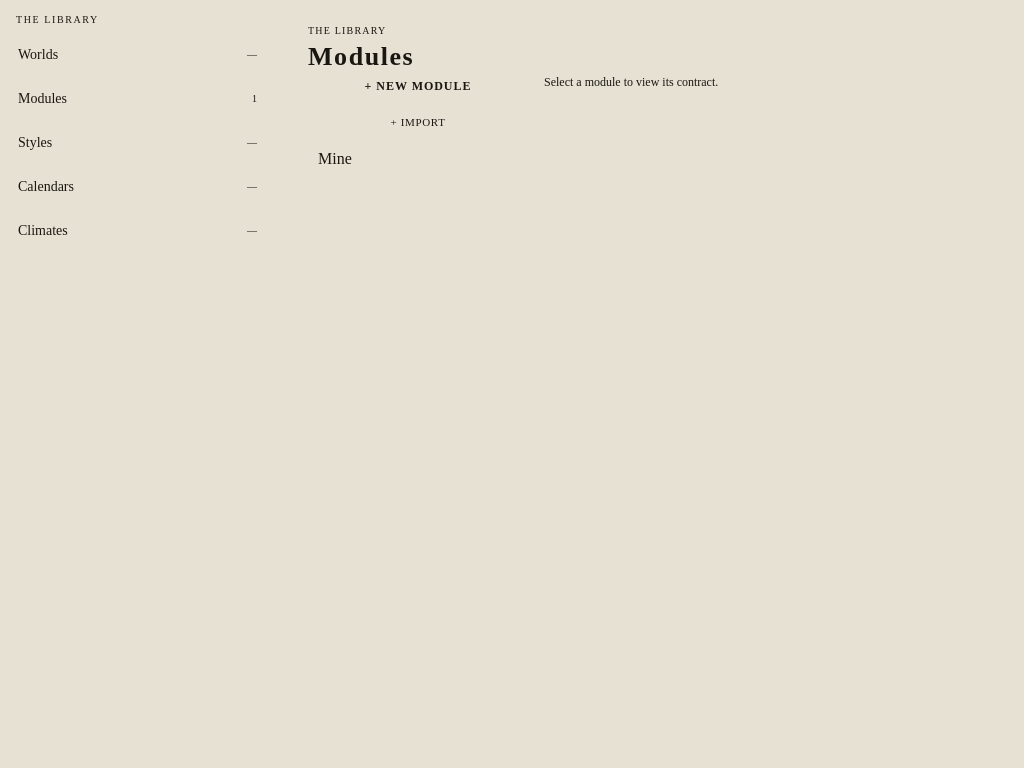
Test: Edit mounts the module editor
Click the link "Mine" at (335,159), box [318, 150, 352, 167]
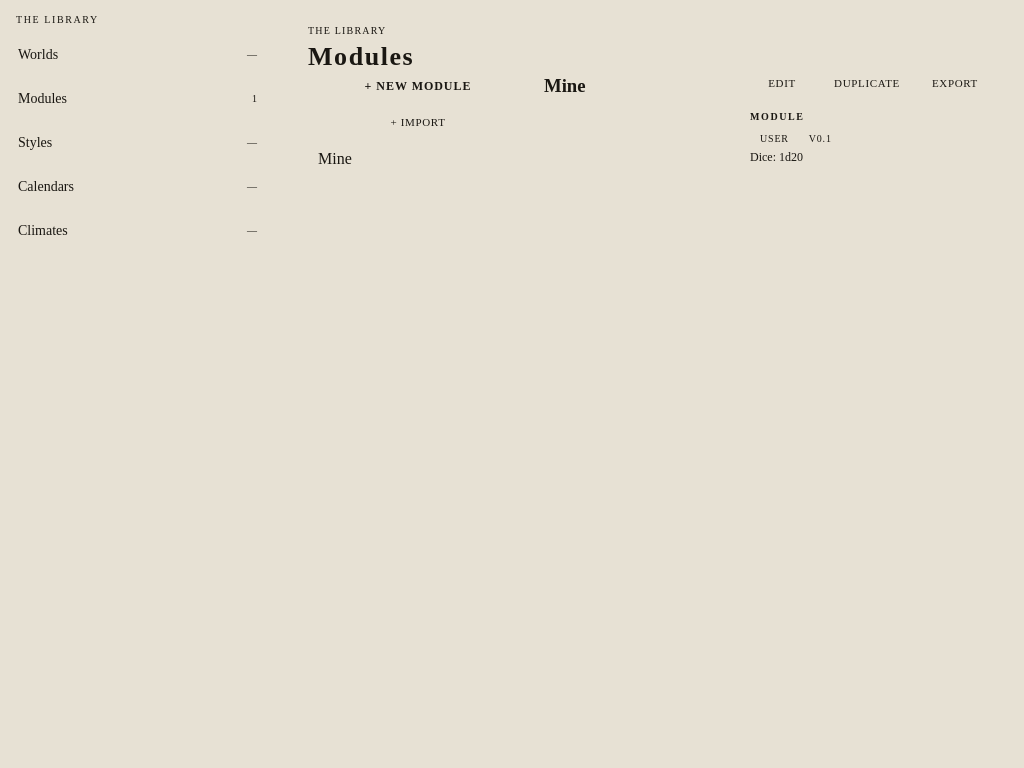
Click the button "Edit" at (782,83), box [750, 71, 814, 95]
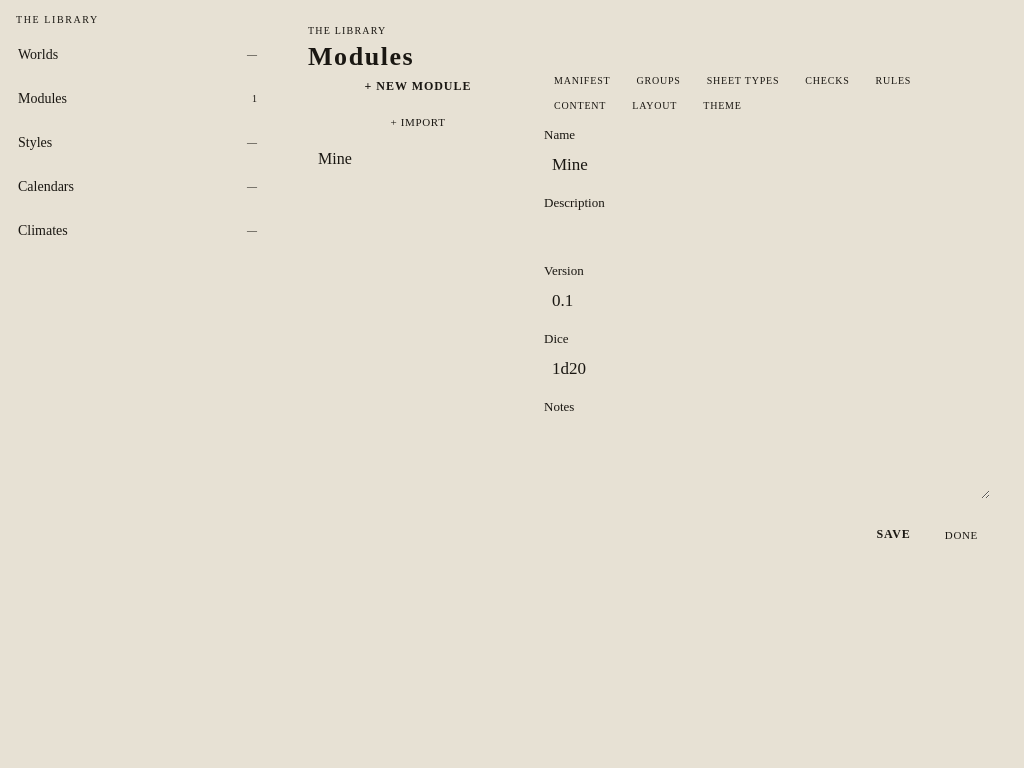
Expected: the button "Manifest" is shown, [544, 71, 620, 90]
